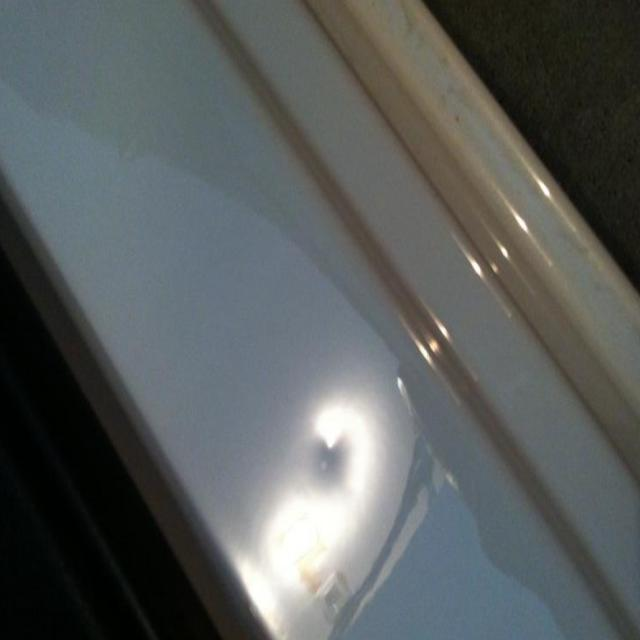dents: (287, 402, 398, 558)
